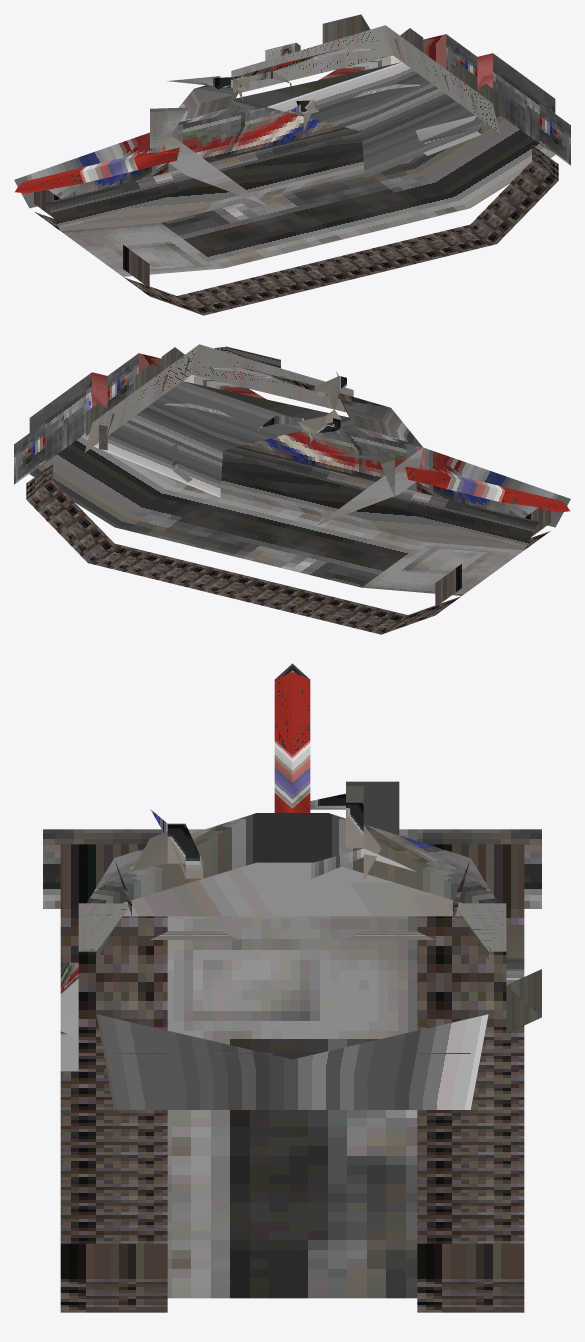
Rendered from ps2_save-icons_worlddestructionleaguethundertanks.glb.
3 views of the same model, one above another, from view 1: azimuth 30°, elevation 25°; view 2: azimuth 150°, elevation 25°; view 3: azimuth 270°, elevation 25° (orthographic). The views are drawn at different scales.
Visible parts, largest first — view 1: slime1.ico; view 2: slime1.ico; view 3: slime1.ico.
Part boxes in pixels (x1=…): slime1.ico: x1=14, y1=14, x2=570, y2=315; slime1.ico: x1=14, y1=344, x2=570, y2=634; slime1.ico: x1=43, y1=663, x2=541, y2=1312.
Size of the model in its own units: 4.95 by 1.58 by 2.1.
Materials: 1 (1 with a texture image).
